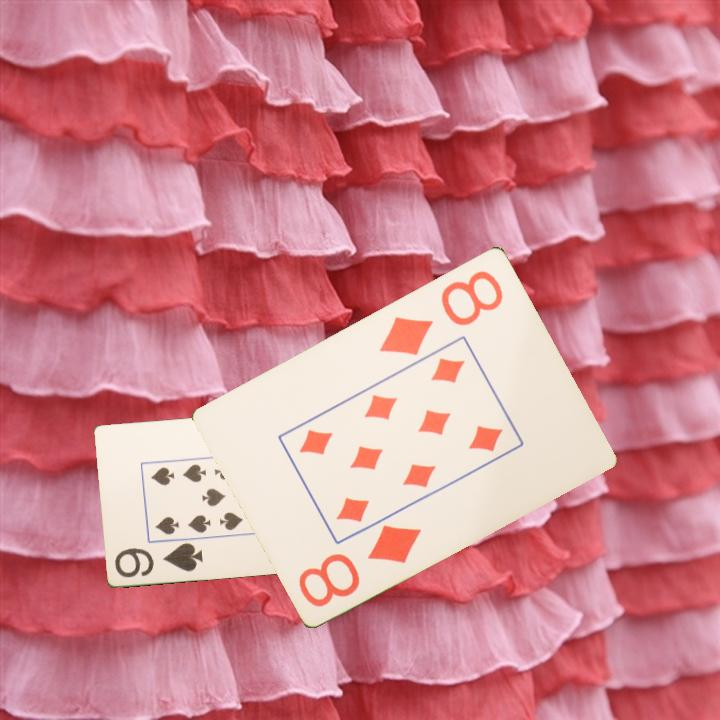8d: (375, 266, 506, 358), (295, 520, 425, 610)
9s: (112, 539, 207, 580)
